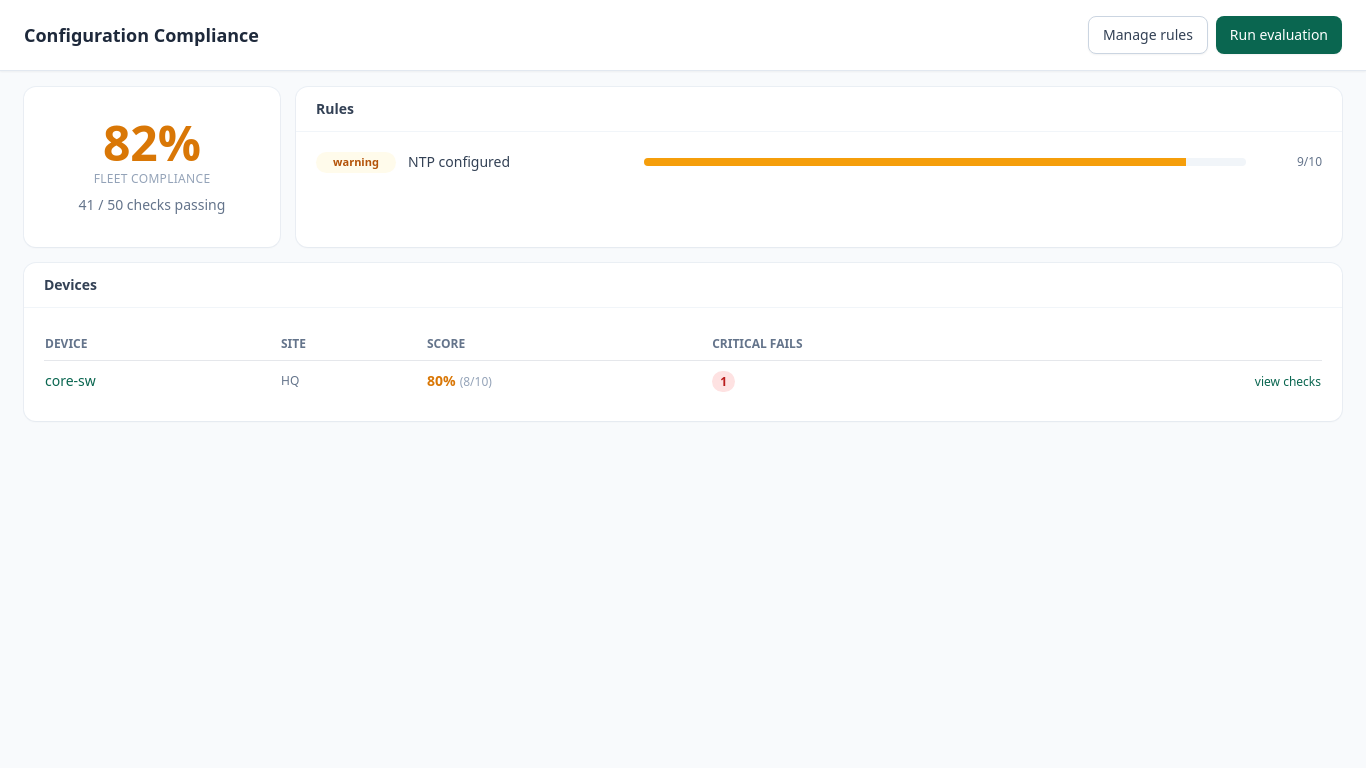
Compliance device checks › Preview runs a dry-run remediation and opens the preview modal
The width and height of the screenshot is (1366, 768).
What coordinates should you click on to do the following:
click the button "view checks"
I would click on:
 (1288, 382)
Its box is x1=1255 y1=374 x2=1321 y2=390.
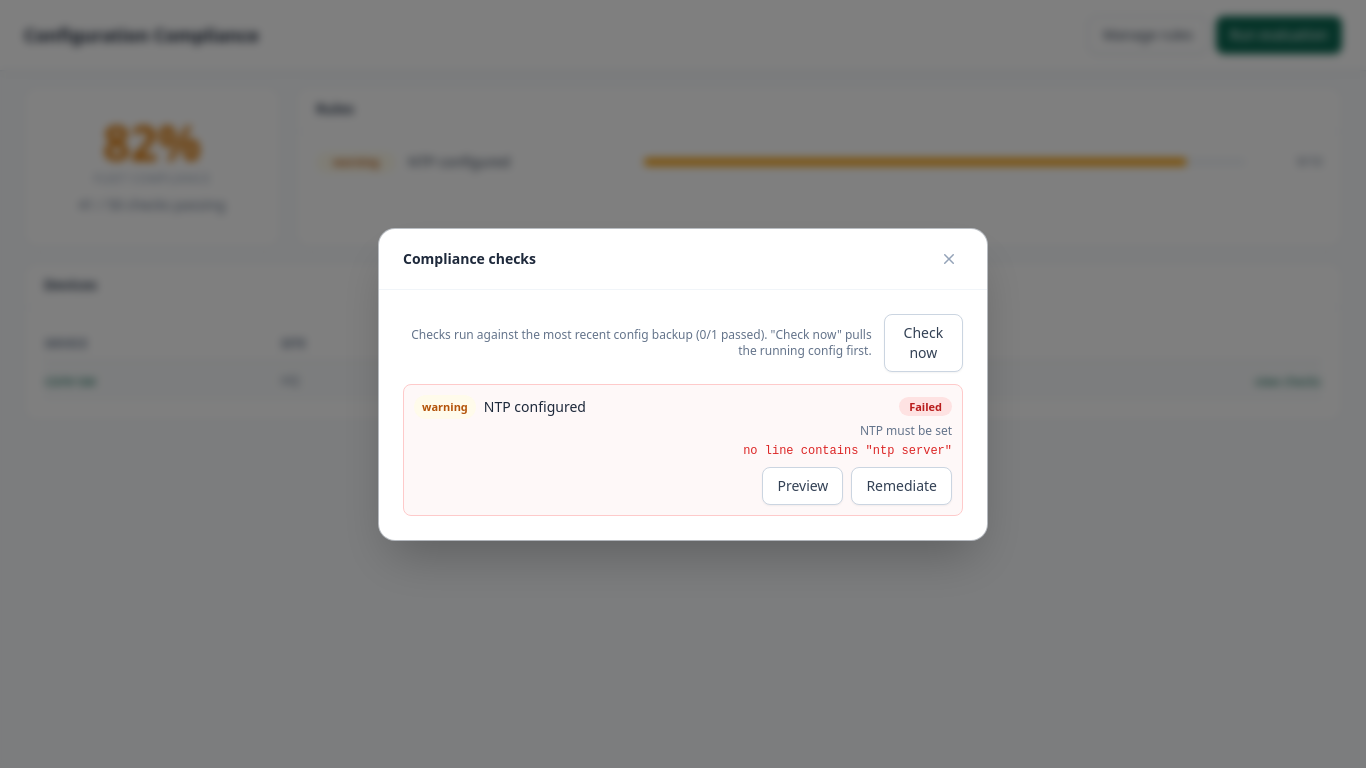
Result: the text "Failed" is shown at x1=899 y1=397 x2=952 y2=416
What coordinates should you click on to do the following:
click the button "Preview"
I would click on:
 (803, 486)
Its box is x1=762 y1=466 x2=843 y2=504.
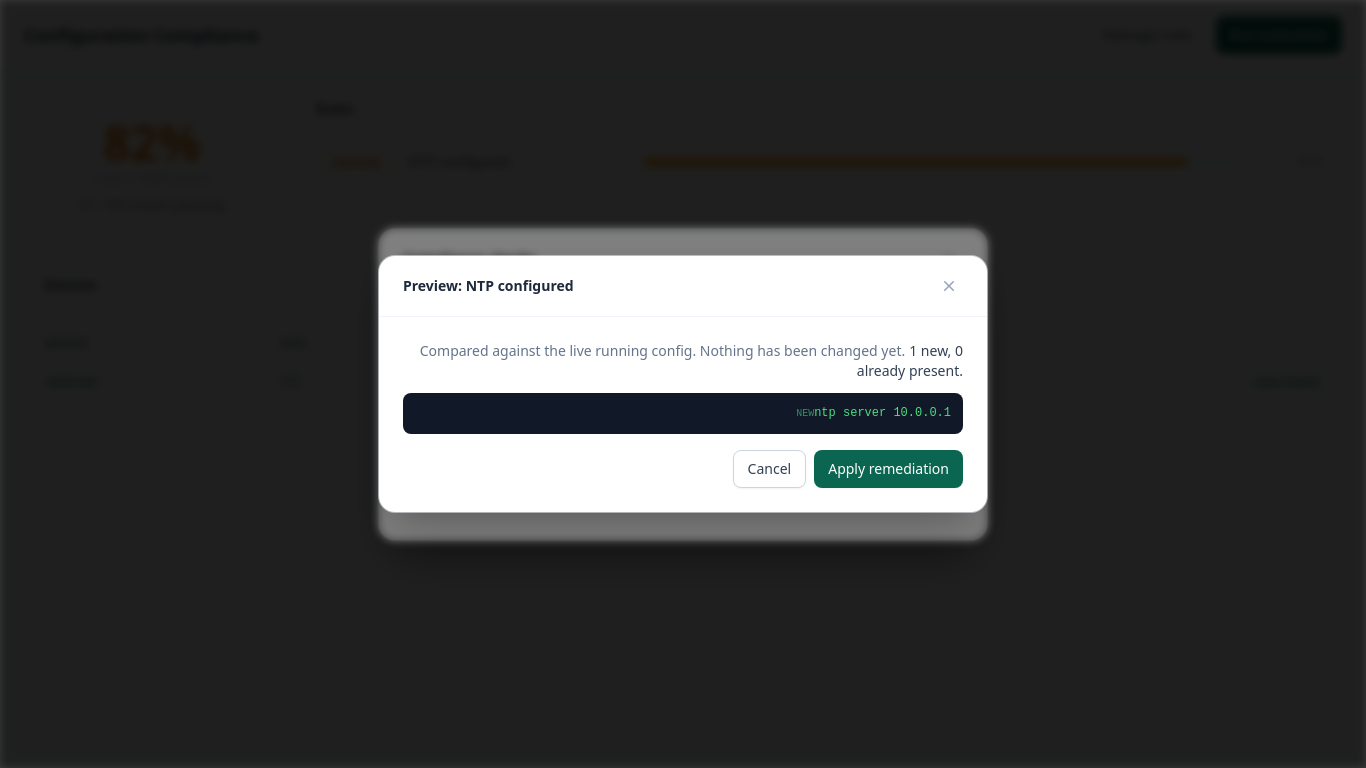
Result: the text "ntp server 10.0.0.1" is shown at x1=814 y1=406 x2=951 y2=420
